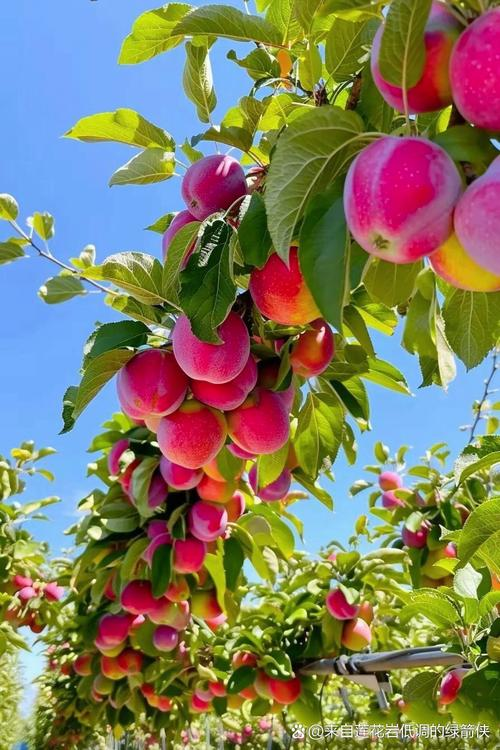ripe: (339, 134, 463, 266), (360, 6, 476, 115), (163, 298, 253, 385), (220, 392, 295, 467), (155, 398, 228, 473), (107, 348, 180, 413), (174, 153, 247, 210)
unripe: (239, 239, 337, 331)
